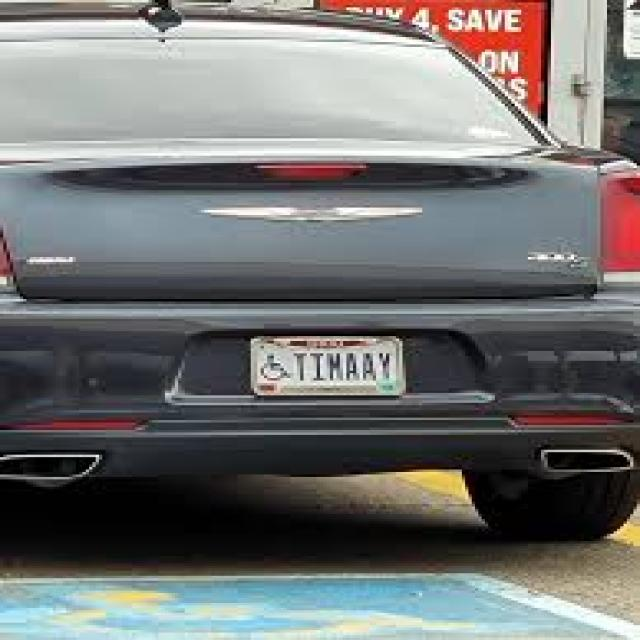car-handicap-placard: (257, 355, 290, 381)
